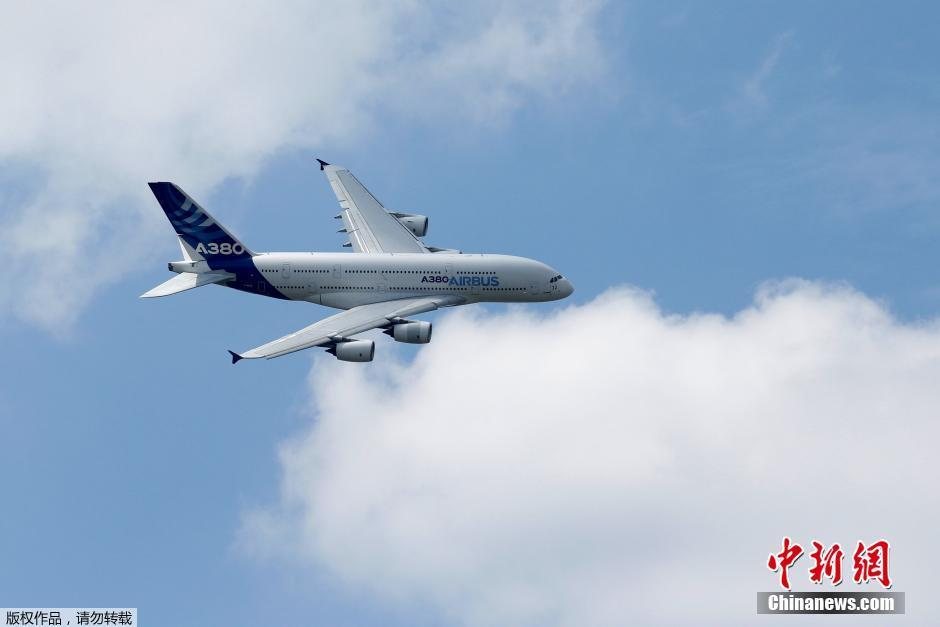airplane: (137, 146, 583, 364)
